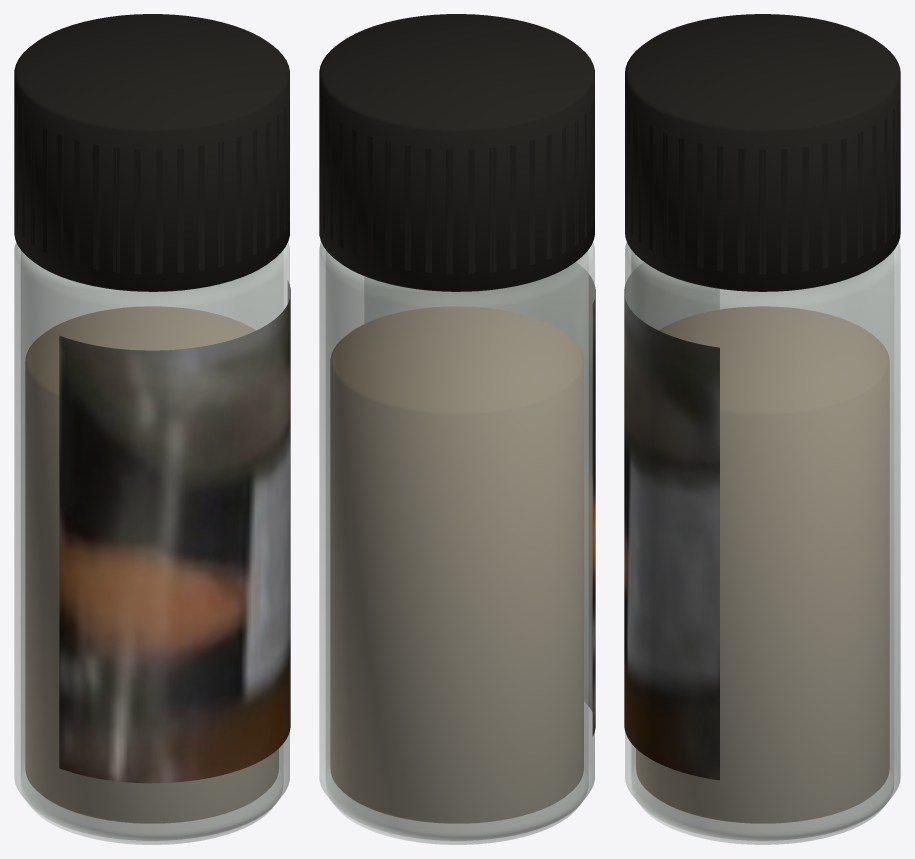
Rendered from pantry_contents__small_grinder.glb.
The picture shows the model from 3 angles, left to right: view 1: azimuth 30°, elevation 25°; view 2: azimuth 150°, elevation 25°; view 3: azimuth 270°, elevation 25°; orthographic projection.
Visible parts, largest first — view 1: small_grinder__body, small_grinder__cap; view 2: small_grinder__body, small_grinder__cap; view 3: small_grinder__body, small_grinder__cap.
Part boxes in pixels (bbox=[...]): small_grinder__body: bbox=[14, 242, 290, 844]; small_grinder__cap: bbox=[14, 14, 289, 291]; small_grinder__body: bbox=[319, 242, 595, 844]; small_grinder__cap: bbox=[319, 14, 594, 291]; small_grinder__body: bbox=[624, 242, 900, 844]; small_grinder__cap: bbox=[625, 14, 900, 291].
Bounding box in the file's own units: 0.0505 × 0.1455 × 0.0506.
Materials: 4 (1 with a texture image).
